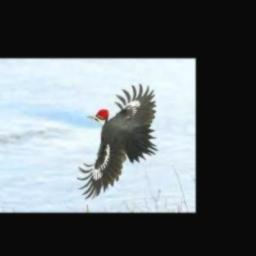Woodpecker: (76, 83, 158, 199)
